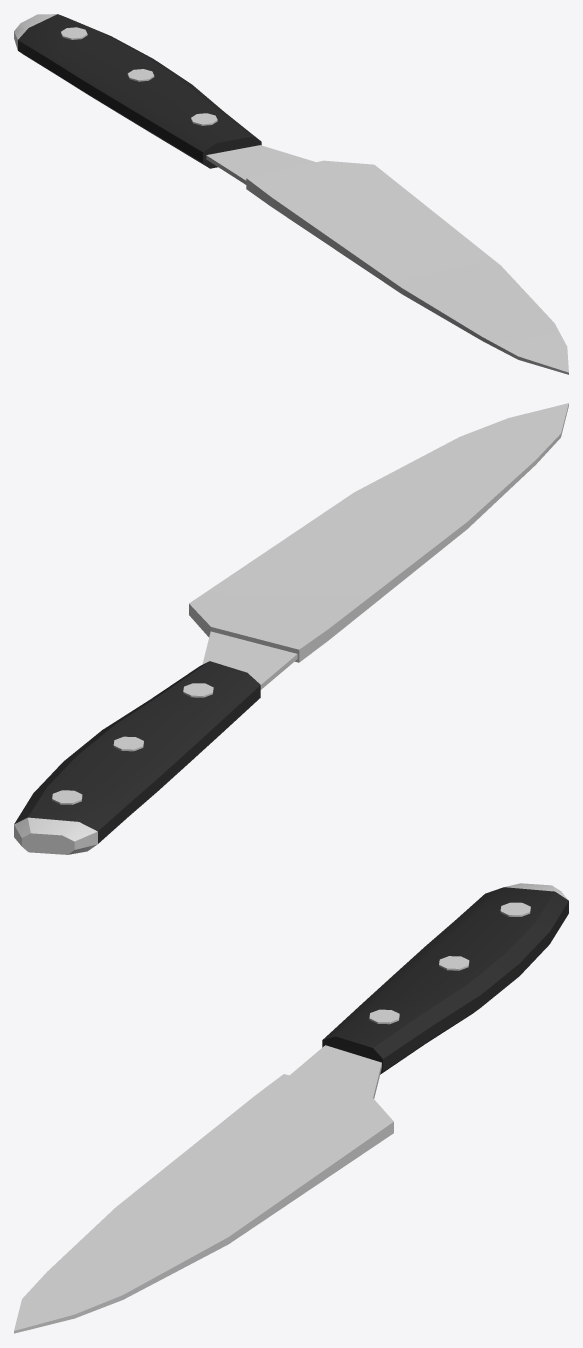
File: ChefsKnife_01.fbx
The picture shows the model from 3 angles, top to bottom: view 1: azimuth 30°, elevation 25°; view 2: azimuth 150°, elevation 25°; view 3: azimuth 330°, elevation 25°; orthographic projection. The views are drawn at different scales.
Parts seen in each view (by area): view 1: ChefsKnife_01; view 2: ChefsKnife_01; view 3: ChefsKnife_01.
Part boxes in pixels (x1=…): ChefsKnife_01: x1=14, y1=14, x2=568, y2=374; ChefsKnife_01: x1=14, y1=403, x2=568, y2=854; ChefsKnife_01: x1=14, y1=883, x2=568, y2=1333.
Bounding box in the file's own units: 0.0544 × 0.0103 × 0.3334.
